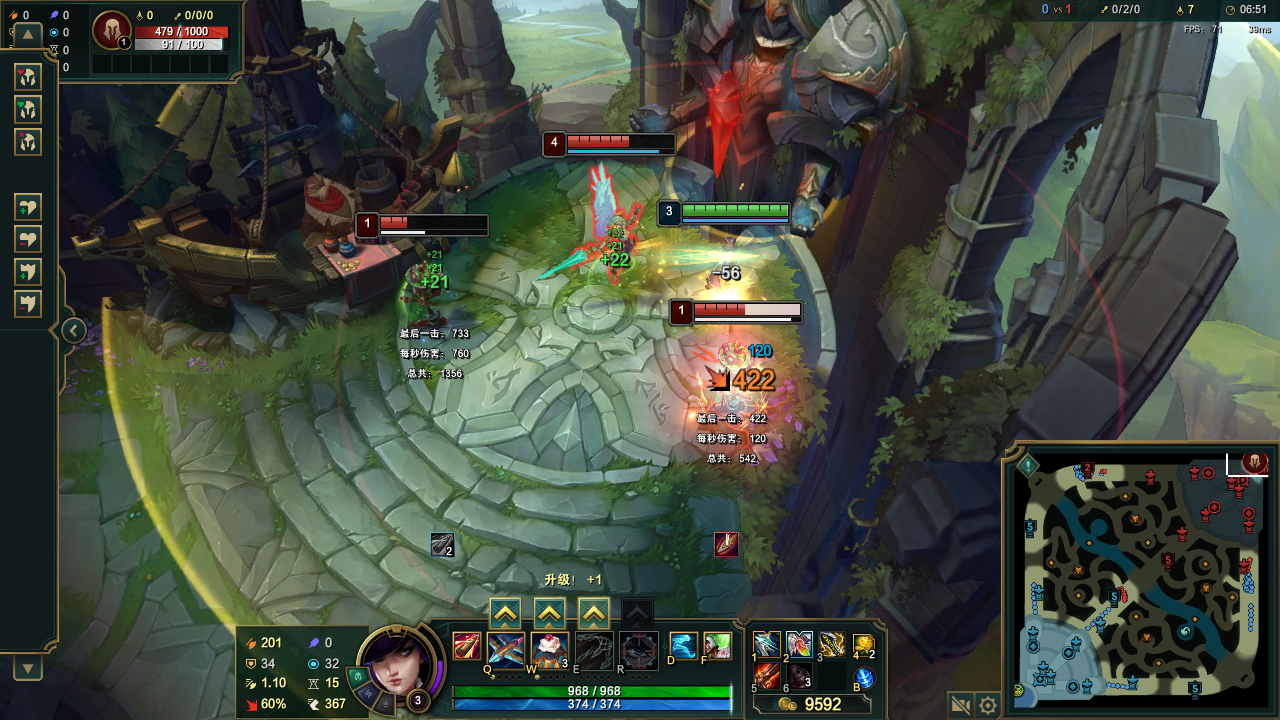DFYX: (566, 126, 676, 147), (381, 210, 495, 230), (693, 296, 806, 314)
